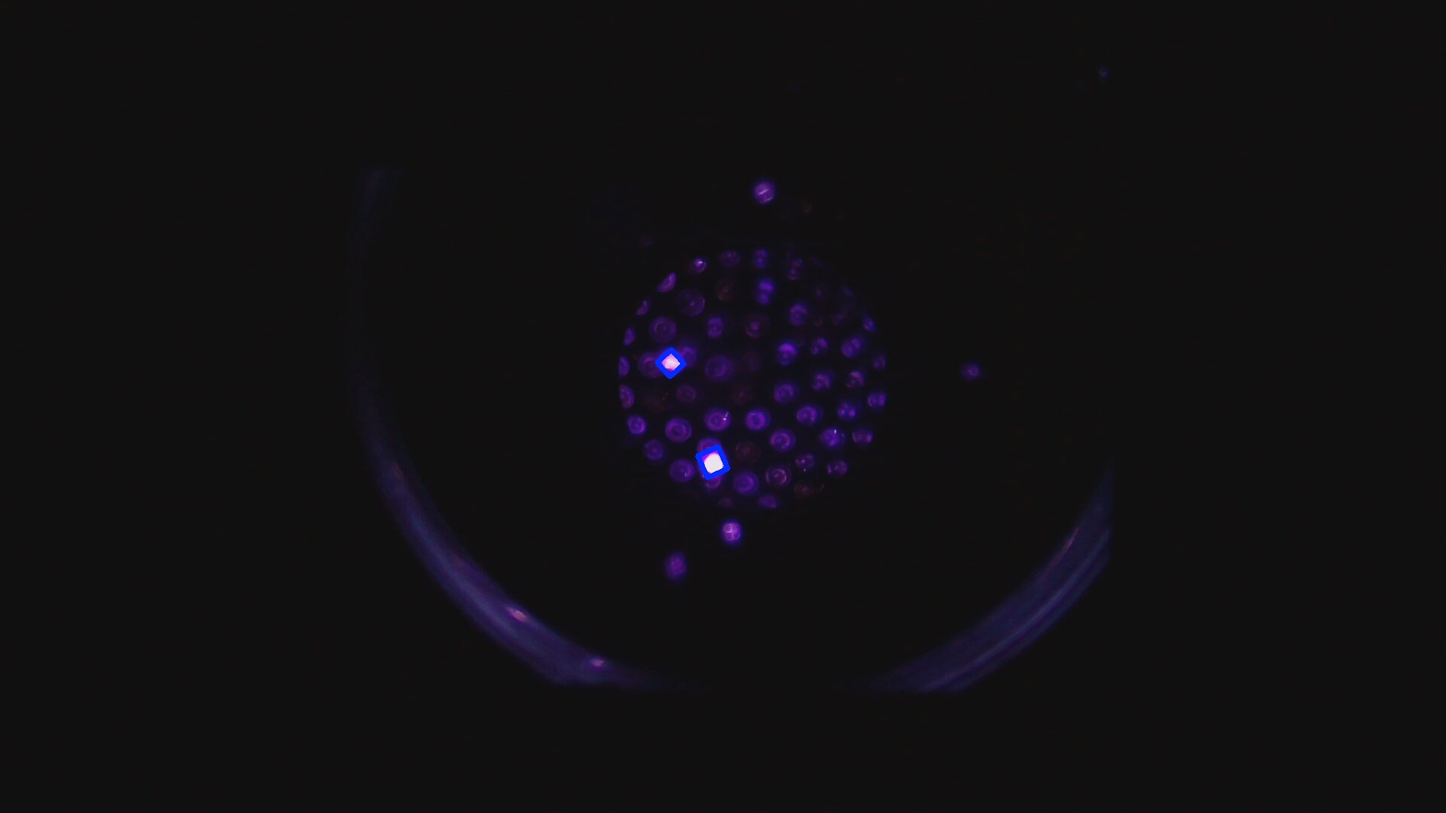plastic: (693, 442, 733, 483), (651, 344, 690, 383)
